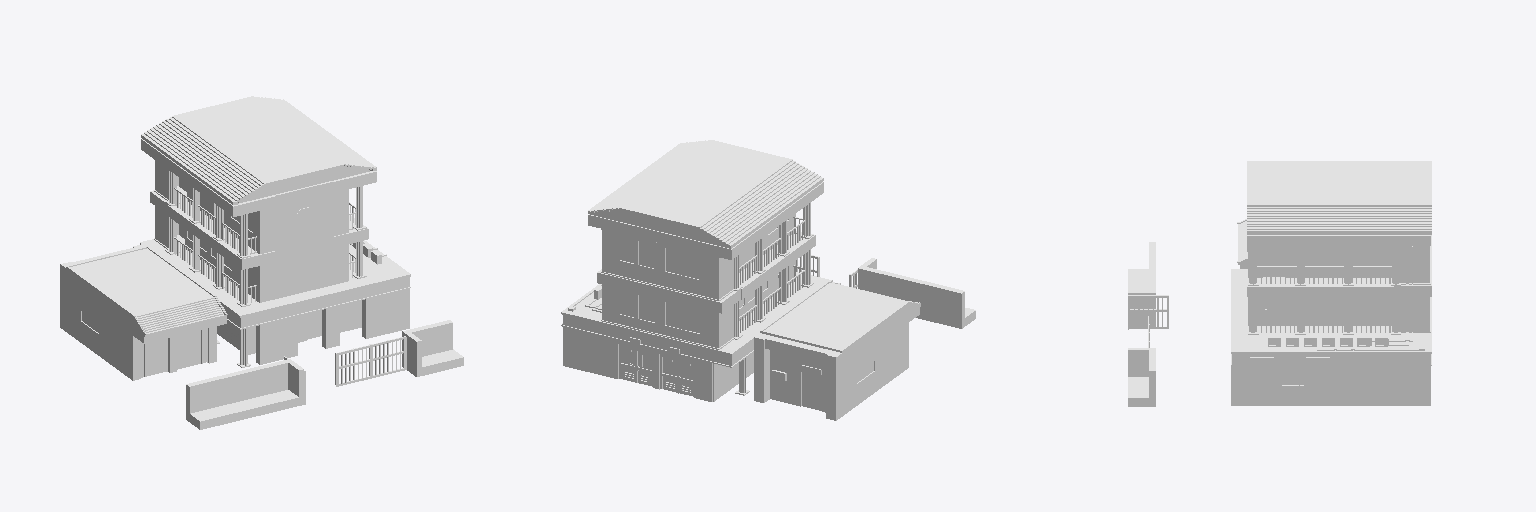
Rendered from GDS2_School.obj.
The picture shows the model from 3 angles: view 1: azimuth 30°, elevation 25°; view 2: azimuth 150°, elevation 25°; view 3: azimuth 270°, elevation 25°; orthographic projection.
Visible parts, largest first — view 1: GDS2_School; view 2: GDS2_School; view 3: GDS2_School.
Part boxes in pixels (x1,y1,x2,y2): GDS2_School: (60,96,463,429); GDS2_School: (561,140,975,420); GDS2_School: (1128,161,1431,406).
Bounding box in the file's own units: 25.6 × 16 × 25.6.